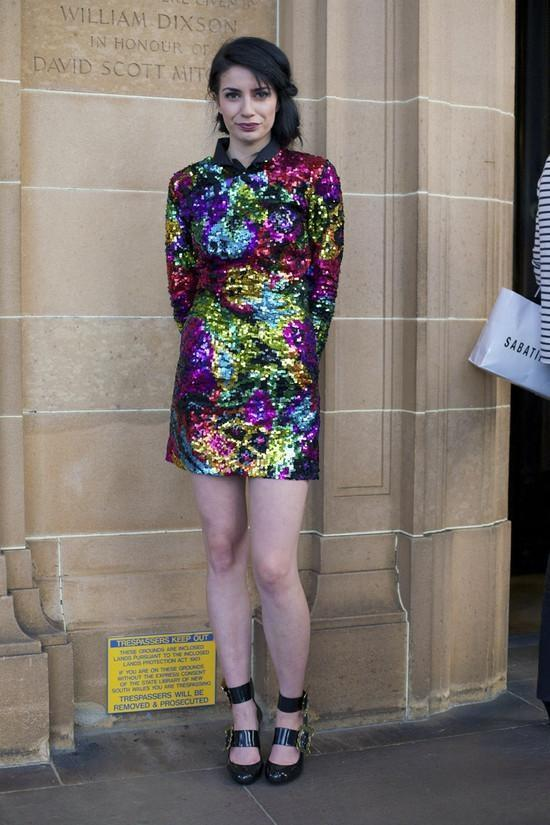dress: (163, 137, 346, 485)
